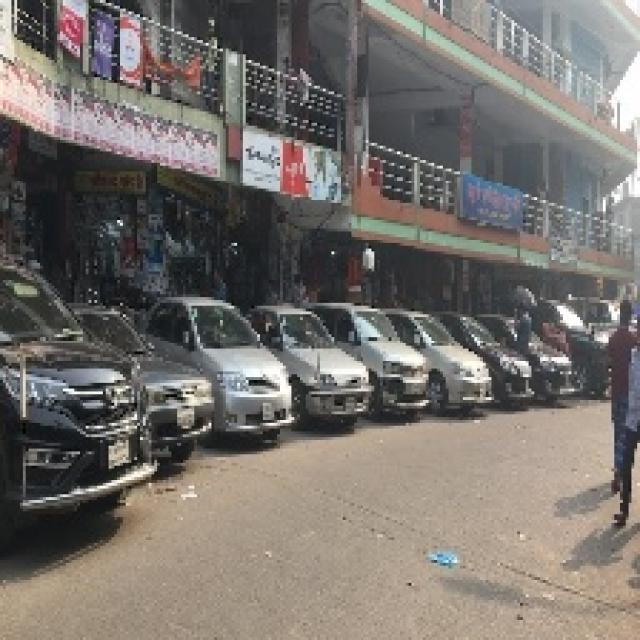car: (8, 245, 151, 512), (147, 282, 298, 439), (262, 291, 365, 427), (334, 274, 431, 413), (409, 291, 492, 409)
